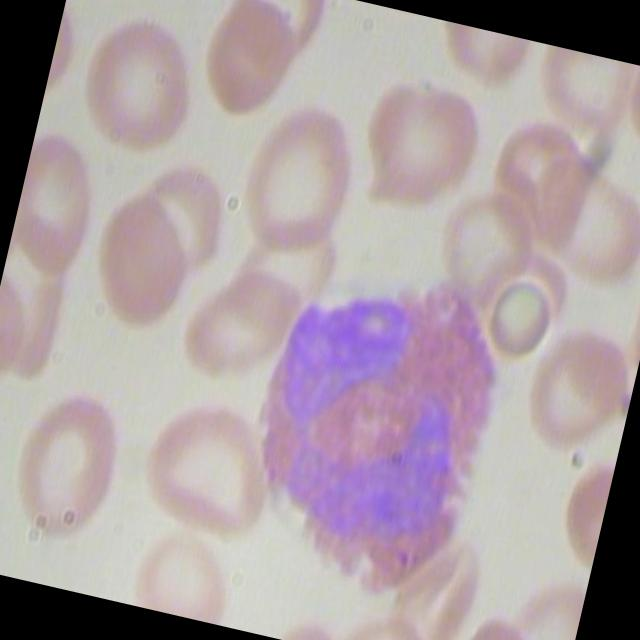RBC: (218, 88, 370, 272), (126, 384, 296, 546), (346, 61, 494, 228), (66, 5, 213, 172), (0, 378, 136, 558), (77, 180, 209, 338), (174, 251, 312, 394), (3, 118, 115, 290), (514, 310, 640, 461), (517, 142, 640, 294), (191, 0, 305, 125), (129, 150, 236, 278), (480, 272, 559, 370)
WBC: (204, 242, 527, 618)
